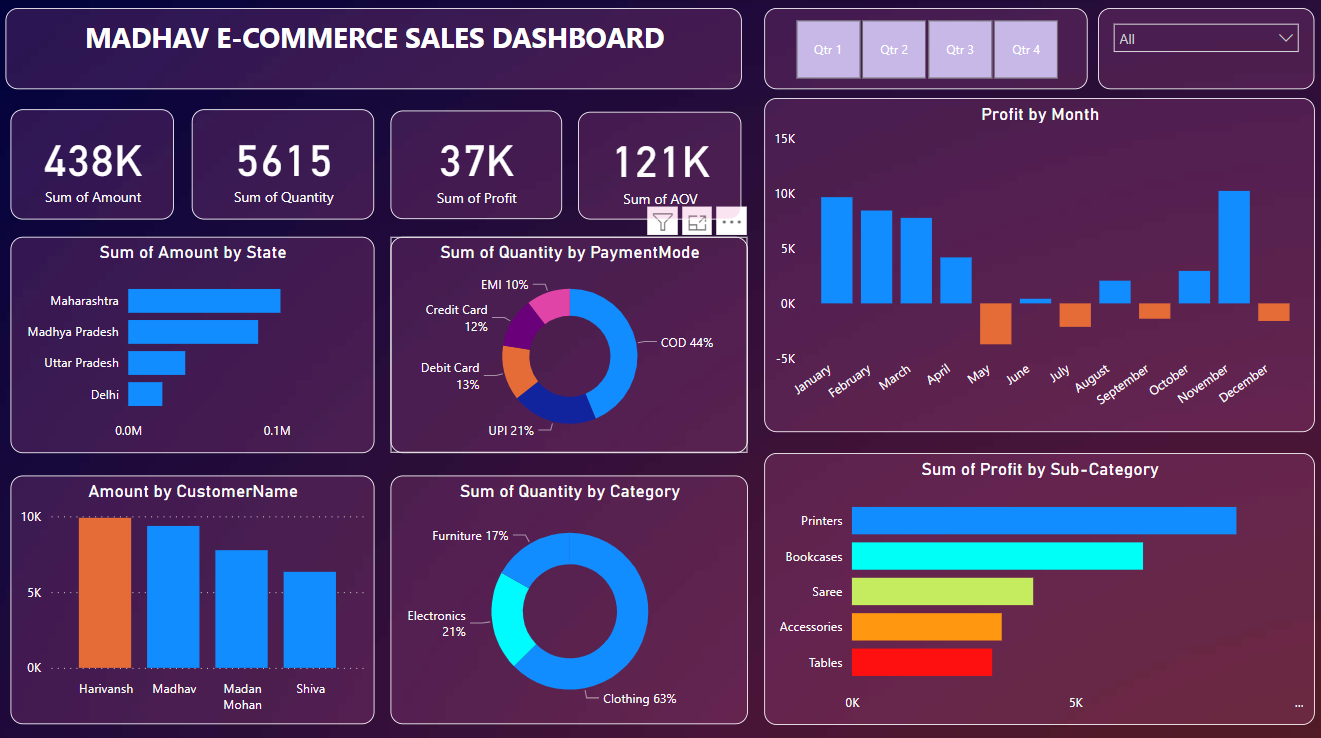

Layout of this report page (visuals, bound fields, positions):
{"tool":"powerbi","page":{"name":"Page 1","canvas":[1280,720],"ordinal":0},"visuals":[{"type":"textbox","box":[7.2,9.6,710.4,78.4],"z":0},{"type":"columnChart","title":" Profit by Month","fields":{"Y":["Details.Profit"],"Category":["Orders.Order Date.Variation.Date Hierarchy.Month"]},"box":[739.6,96.1,531,322.5],"z":1000},{"type":"barChart","fields":{"Category":["Details.Sub-Category"],"Y":["Details.Profit"]},"box":[739.6,439.1,531,262.1],"z":2000},{"type":"donutChart","fields":{"Y":["Details.Quantity"],"Category":["Details.Category"]},"box":[378.7,460.7,344.9,240],"z":3000},{"type":"donutChart","fields":{"Y":["Details.Quantity"],"Category":["Details.PaymentMode"]},"box":[378.7,230.4,344.9,208.6],"z":4000},{"type":"card","fields":{"Values":["Details.Amount"]},"box":[12.1,107.3,158,106.1],"z":5000},{"type":"card","fields":{"Values":["Details.Quantity"]},"box":[186.9,107.3,176.1,106.1],"z":6000},{"type":"card","fields":{"Values":["Details.Profit"]},"box":[378.7,108.5,165.2,104.9],"z":7000},{"type":"card","fields":{"Values":["Details.AOV"]},"box":[559.6,109.7,158,103.7],"z":8000},{"type":"barChart","fields":{"Category":["Orders.State"],"Y":["Details.Amount"]},"box":[12.1,230.4,351,208.6],"z":9000},{"type":"columnChart","title":"Amount by CustomerName","fields":{"Category":["Orders.CustomerName"],"Y":["Details.Amount"]},"box":[12.1,460.7,351,240],"z":10000},{"type":"slicer","fields":{"Values":["Orders.State"]},"box":[1061.3,9.6,208.6,78.4],"z":11000},{"type":"slicer","fields":{"Values":["Orders.Order Date.Variation.Date Hierarchy.Quarter"]},"box":[739.3,9.6,312.4,78.4],"z":12000}]}

Visuals, with their boxes in screenshot pixels (x1, y1, x2, y2), scaled from the page's 1280x720 canvas onto the 1321x738 screenshot:
textbox: locate(7, 10, 741, 90)
" Profit by Month" columnChart: locate(763, 99, 1311, 429)
barChart - Details.Sub-Category x Details.Profit: locate(763, 450, 1311, 719)
donutChart - Details.Quantity x Details.Category: locate(391, 472, 747, 718)
donutChart - Details.Quantity x Details.PaymentMode: locate(391, 236, 747, 450)
card - Details.Amount: locate(12, 110, 176, 219)
card - Details.Quantity: locate(193, 110, 375, 219)
card - Details.Profit: locate(391, 111, 561, 219)
card - Details.AOV: locate(578, 112, 741, 219)
barChart - Orders.State x Details.Amount: locate(12, 236, 375, 450)
"Amount by CustomerName" columnChart: locate(12, 472, 375, 718)
slicer - Orders.State: locate(1095, 10, 1311, 90)
slicer - Orders.Order Date.Variation.Date Hierarchy.Quarter: locate(763, 10, 1085, 90)
